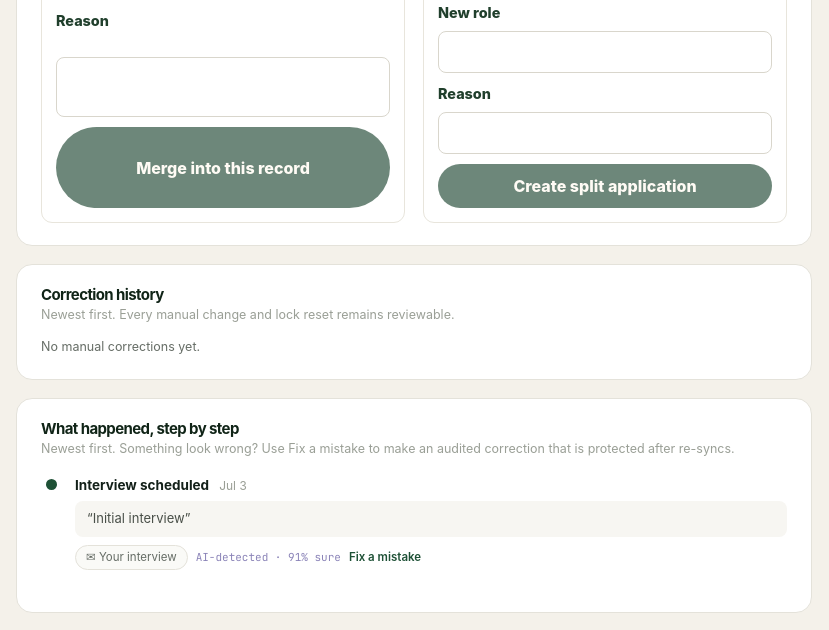
Test: DetailPage corrections › edits an event in its card through the audited endpoint
This screenshot has width=829, height=630.
(page scrolled)
Expected: the text "“Initial interview”" is shown, left=75, top=501, right=787, bottom=537
Click the button "Fix a mistake".
click(385, 557)  # box left=349, top=550, right=421, bottom=564
(page scrolled)
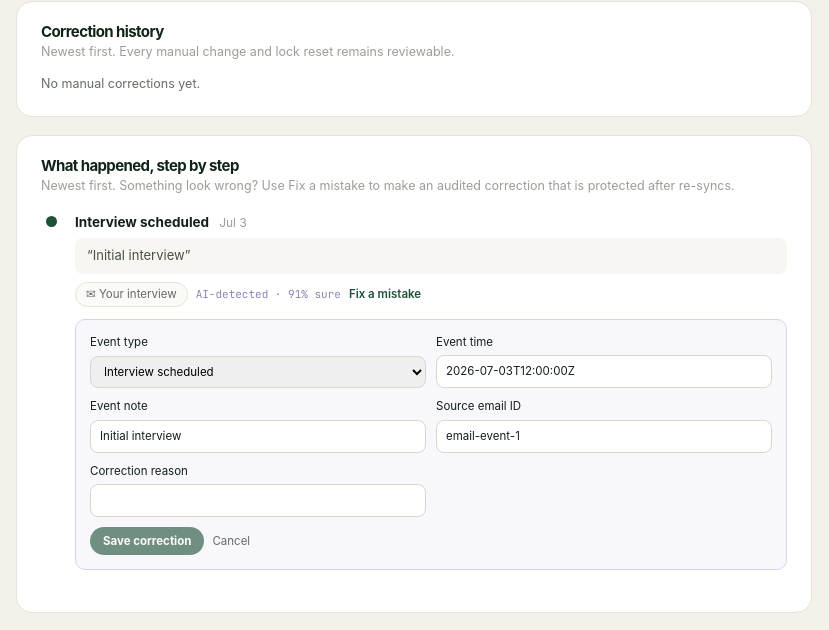
Replace the text in the field labelled "Event note" with "Recruiter screen" at (258,436), box left=90, top=420, right=426, bottom=453
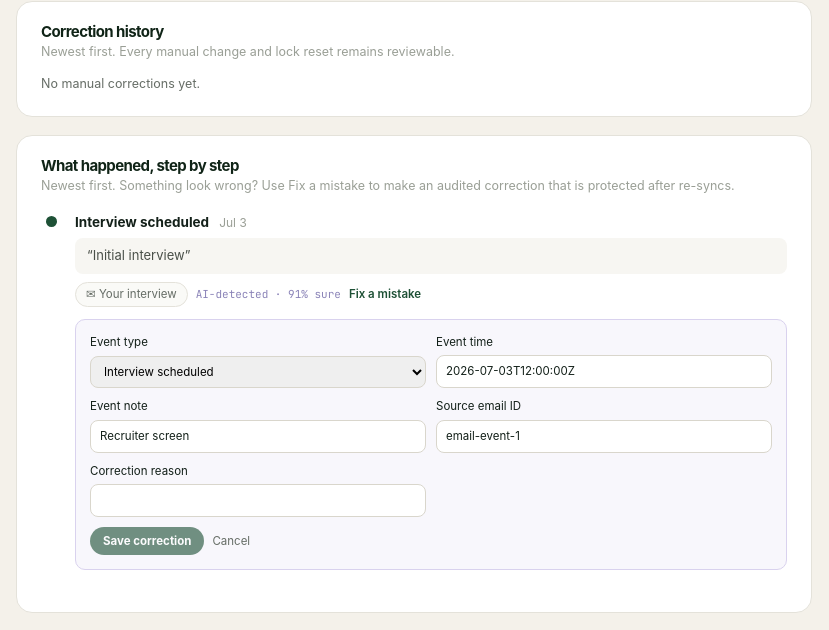
Type "The email describes a recruiter screen." into the field labelled "Correction reason".
click(258, 501); type("The email describes a recruiter screen.")  # box left=90, top=484, right=426, bottom=517
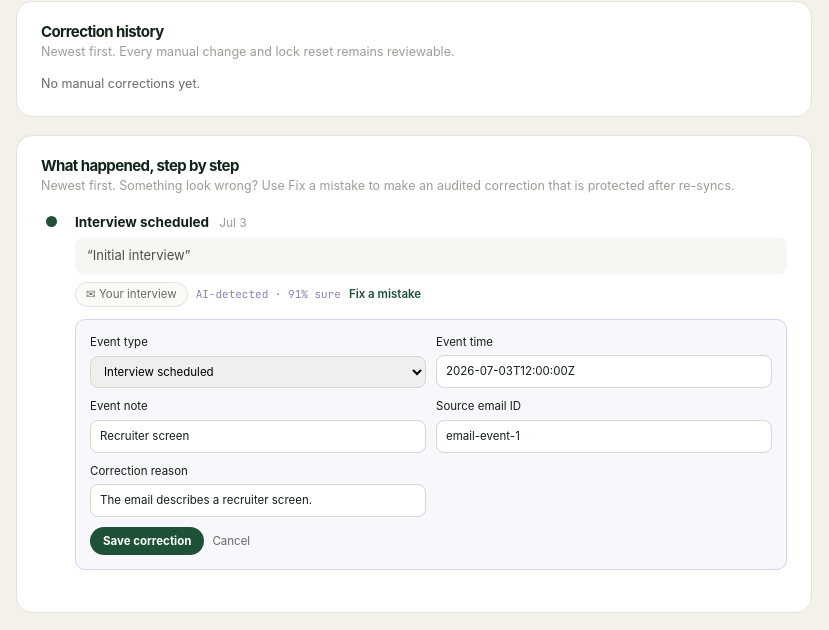
Select "Response received" in the dropdown labelled "Event type" at (258,372), box left=90, top=356, right=426, bottom=388
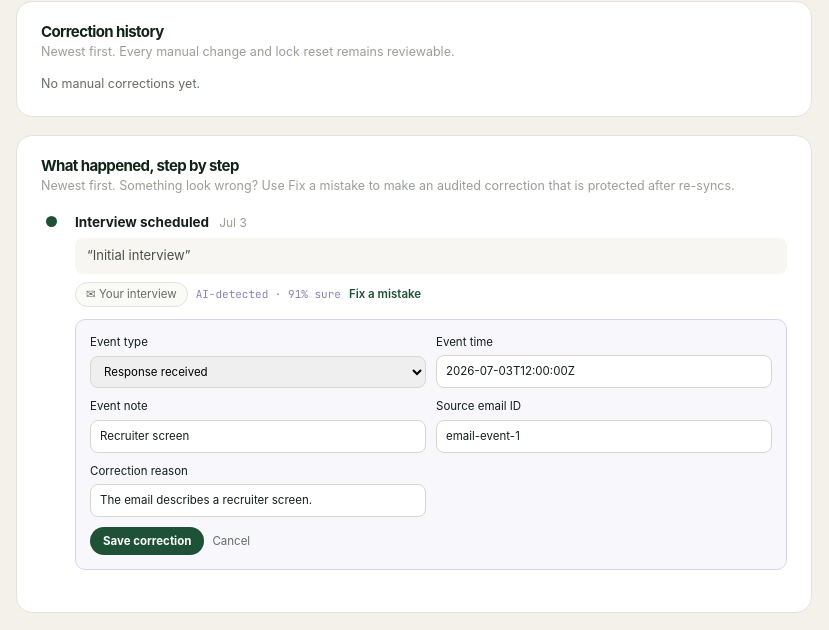
Click the button "Save correction".
click(147, 541)  # box left=90, top=527, right=204, bottom=555
(page scrolled)
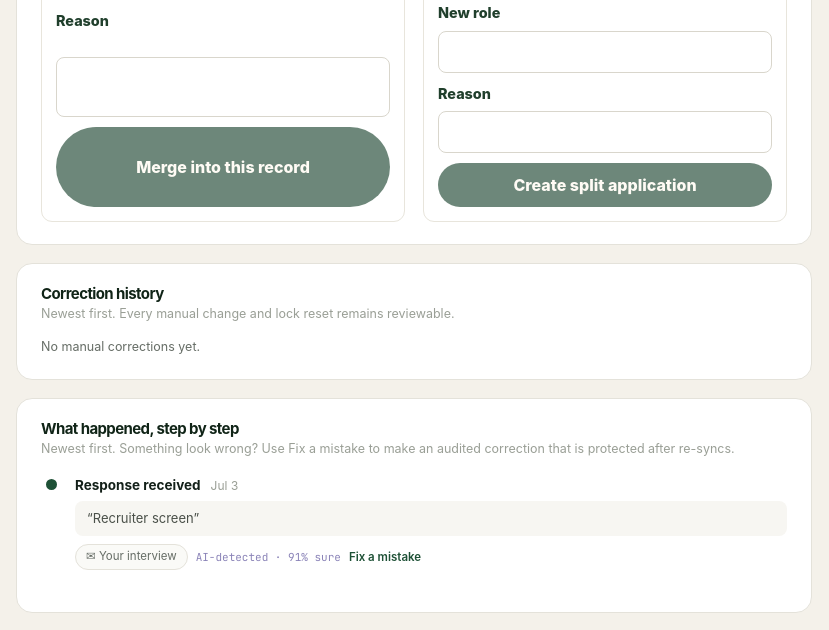
Expected: the text "“Recruiter screen”" is shown, left=75, top=501, right=787, bottom=536
